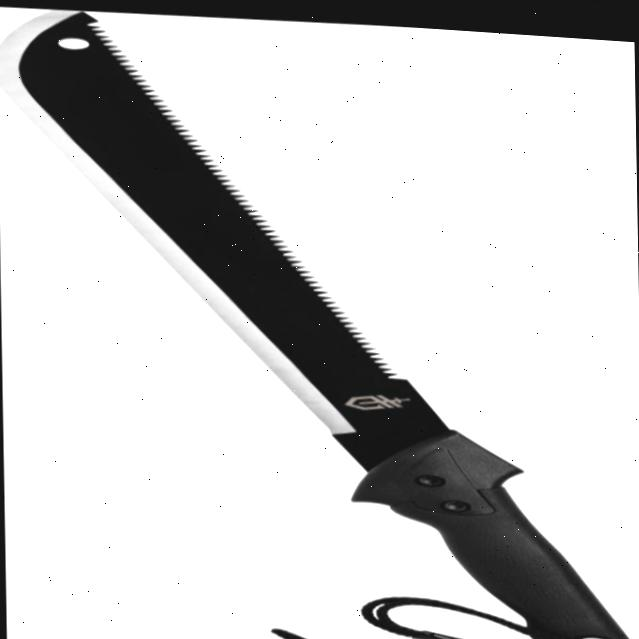long knife: (0, 0, 614, 639)
